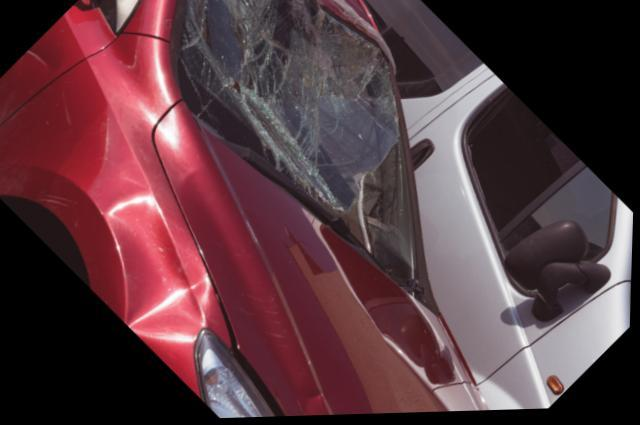dent: (106, 193, 210, 342), (18, 40, 57, 73)
glass shatter: (177, 0, 415, 301)
